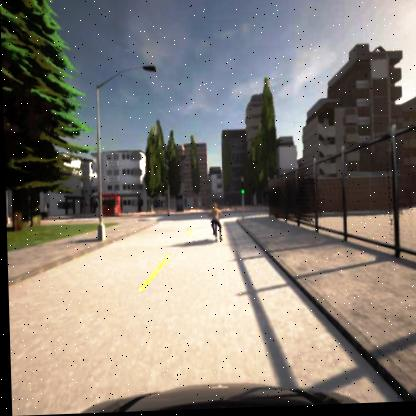bike: (207, 204, 221, 242)
